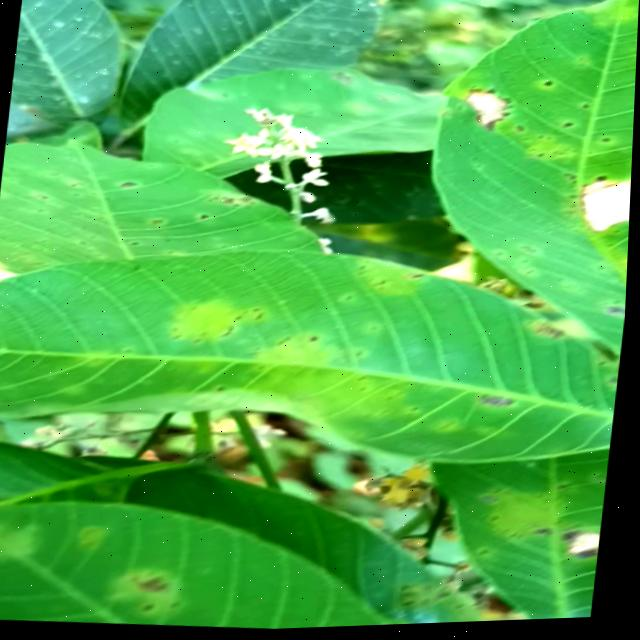Leaf-Blight: (574, 179, 633, 237), (462, 92, 509, 128)
